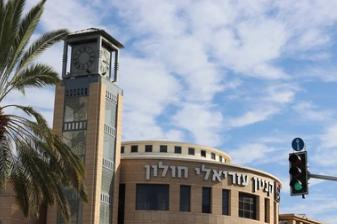green_light: (288, 151, 308, 196)
